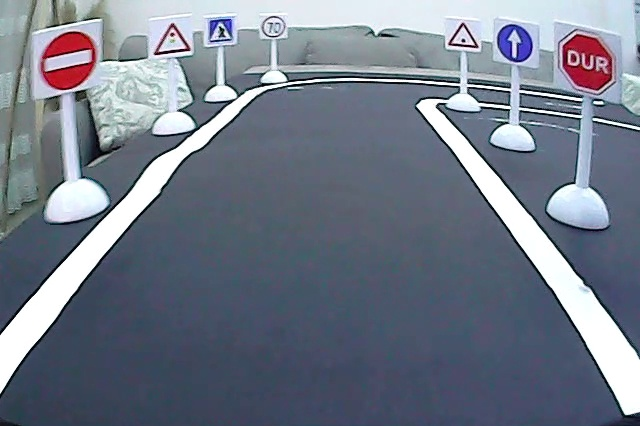do not enter: (36, 27, 100, 94)
green light: (447, 20, 481, 51)
pedestrian crossing: (207, 16, 234, 44)
red light: (152, 22, 192, 56)
speed limit 70: (260, 15, 288, 39)
stop sign: (553, 28, 618, 98)
